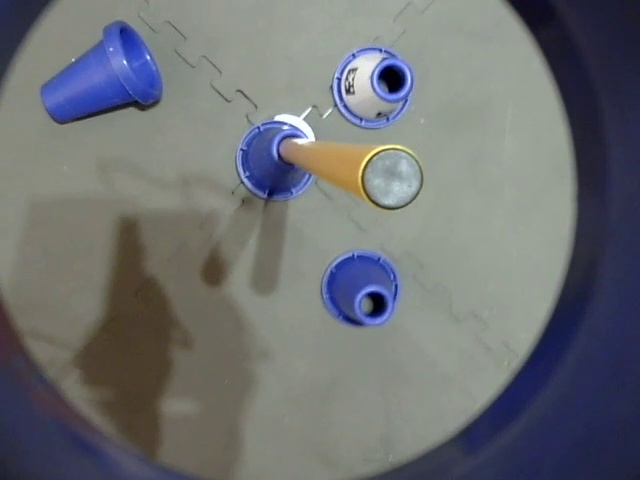tip: (352, 139, 428, 213)
